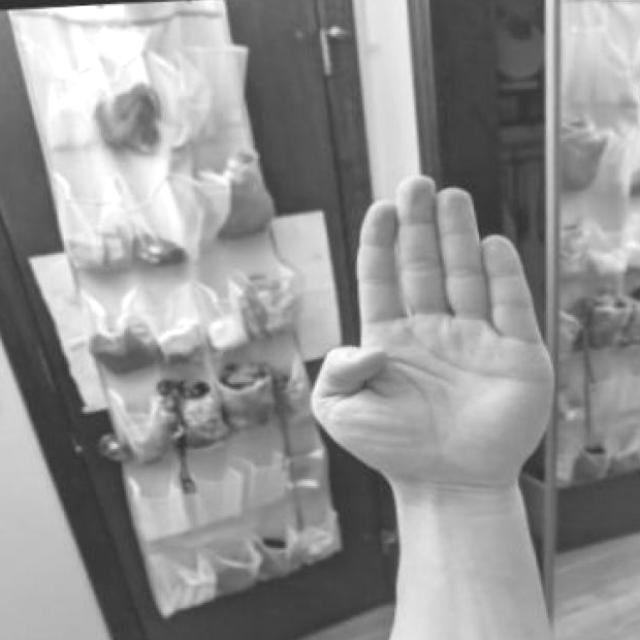B: (302, 164, 593, 516)
